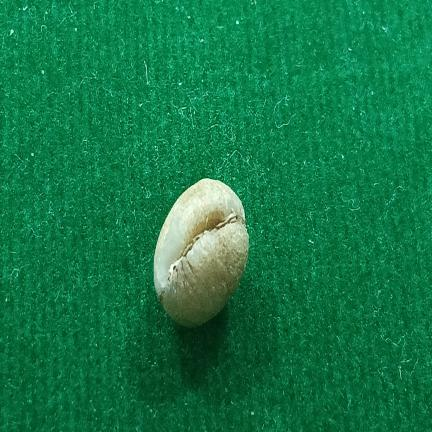good: (154, 179, 249, 327)
